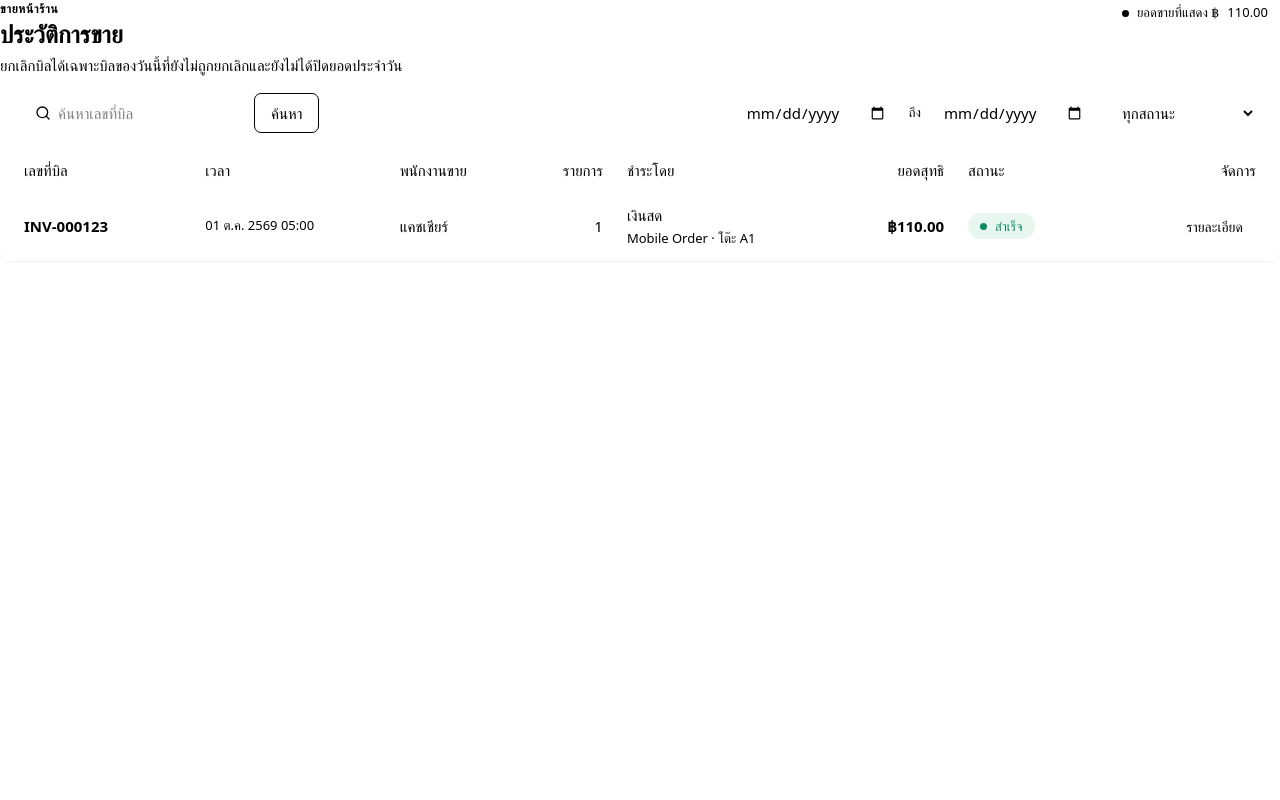
Test: พิมพ์ใบเสร็จซ้ำ › ใบที่พิมพ์ซ้ำมีป้ายสำเนา ชื่อร้าน และเลขบิลเดิม
Click the button "รายละเอียด" at (1215, 226), box left=1173, top=210, right=1256, bottom=242
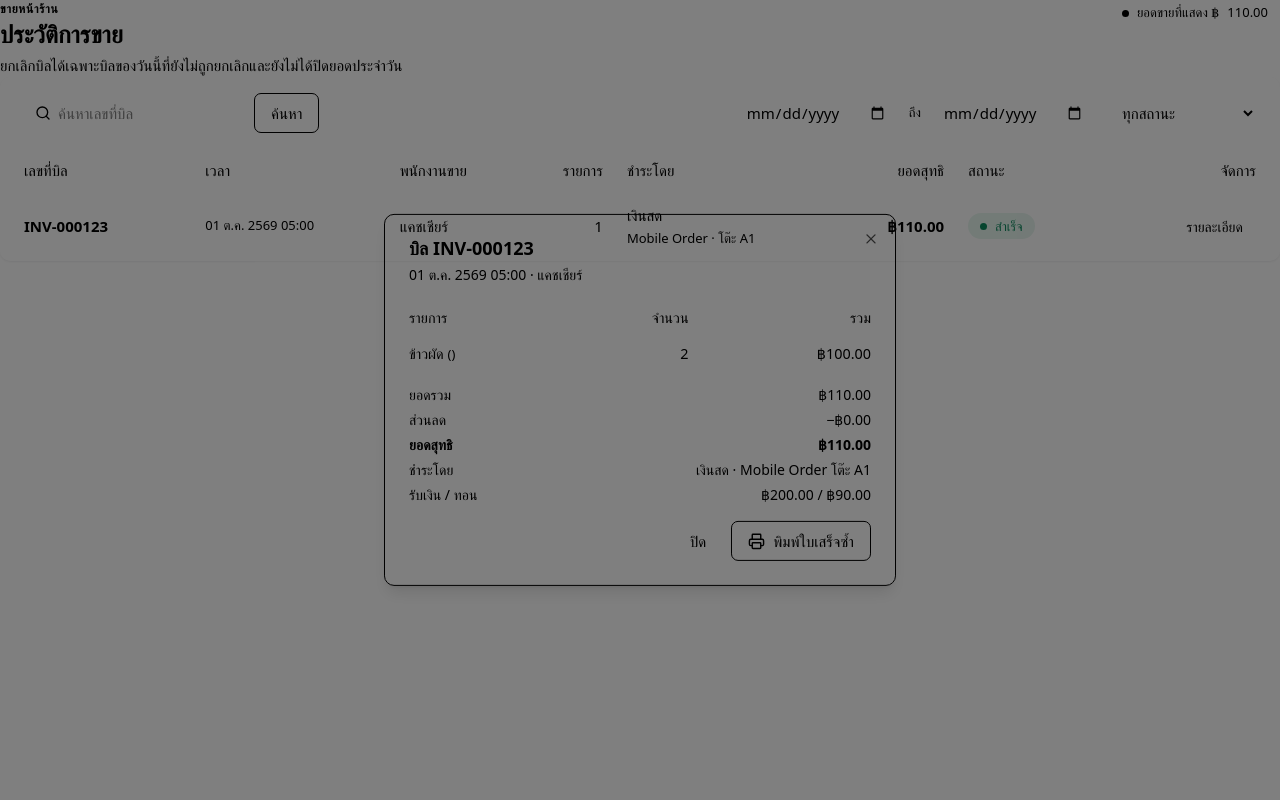
Click the button "พิมพ์ใบเสร็จซ้ำ" at (801, 541), box left=731, top=521, right=871, bottom=561
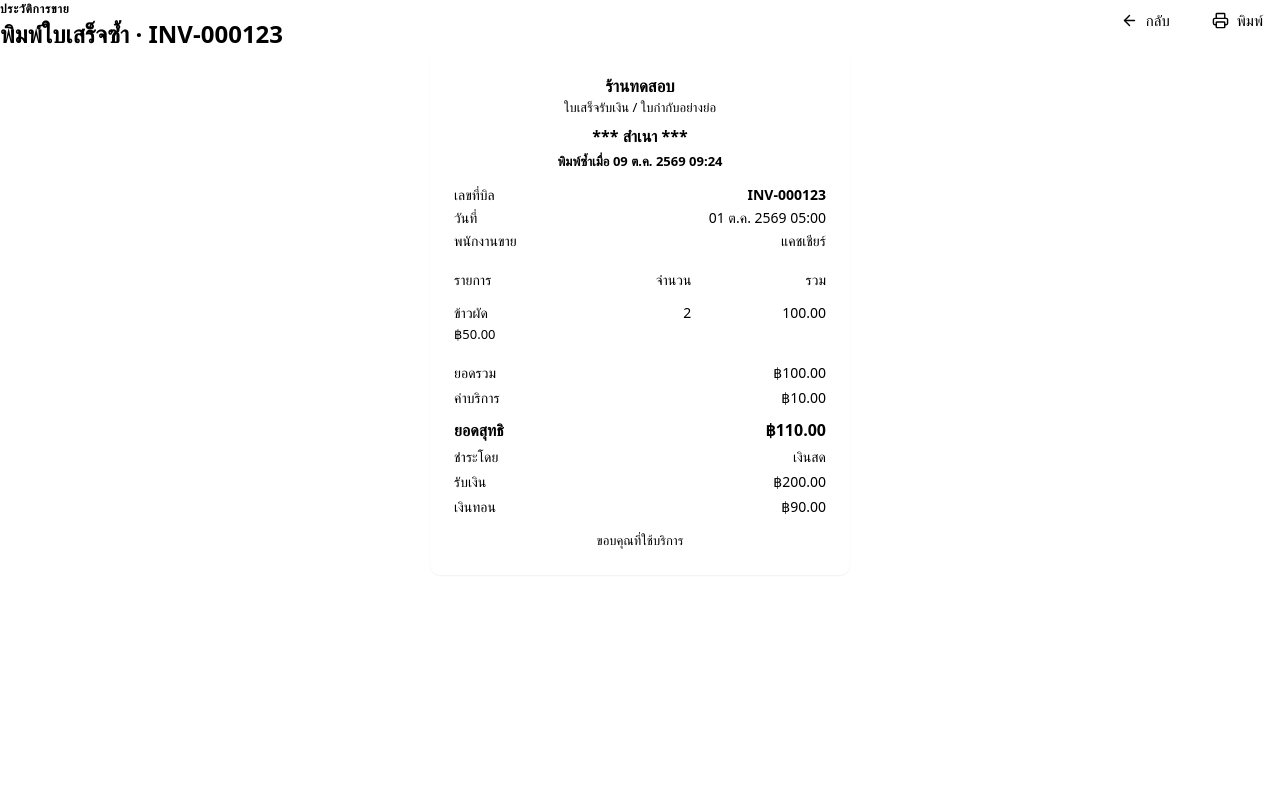
Check: the text "*** สำเนา ***พิมพ์ซ้ำเมื่อ 09 ต.ค. 2569 09:24" is shown, box left=558, top=125, right=722, bottom=170
Check: the text "พิมพ์ซ้ำเมื่อ 09 ต.ค. 2569 09:24" is shown, box left=558, top=152, right=722, bottom=170
Check: the text "ร้านทดสอบ" is shown, box left=605, top=74, right=675, bottom=97
